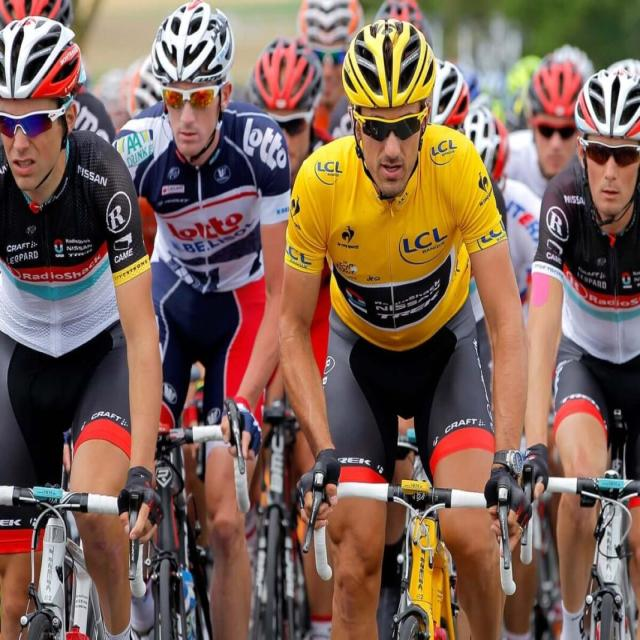1-2-helmet: (340, 15, 439, 112), (149, 0, 237, 86)
